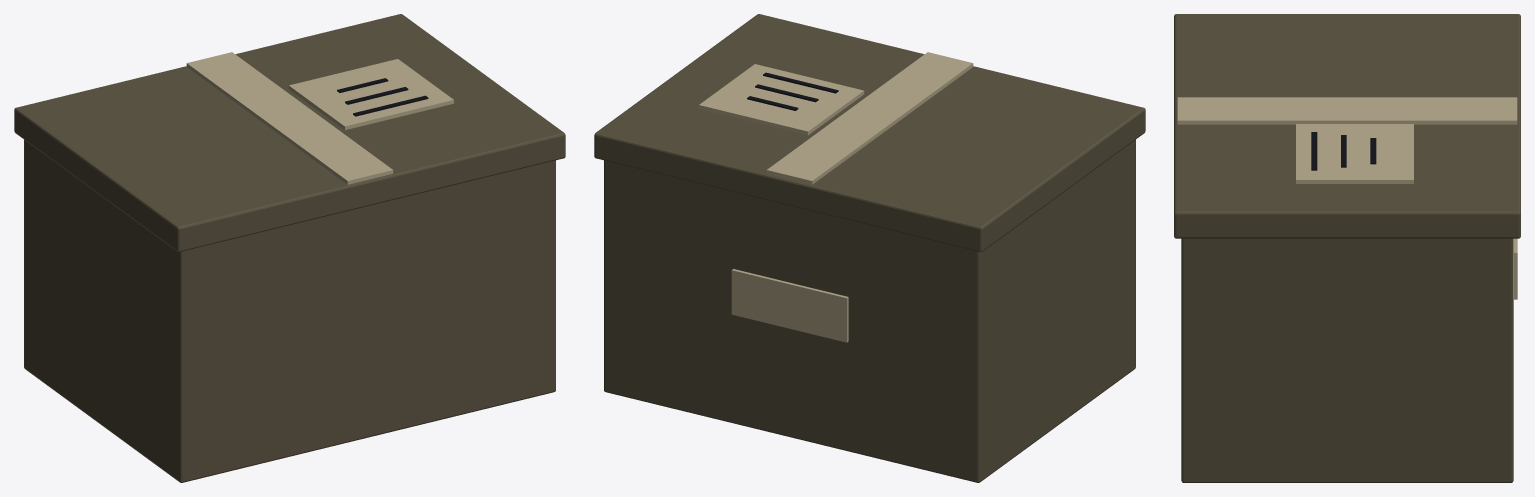
Rendered from archive_box_sealed.glb.
3 views of the same model, side by side, from view 1: azimuth 30°, elevation 25°; view 2: azimuth 150°, elevation 25°; view 3: azimuth 270°, elevation 25° (orthographic). The views are drawn at different scales.
Visible parts, largest first — view 1: archive_box_sealed; view 2: archive_box_sealed; view 3: archive_box_sealed.
Boxes of the visible parts, x1,y1,x2,y2 form: archive_box_sealed: (14,14,565,482); archive_box_sealed: (594,14,1145,482); archive_box_sealed: (1174,14,1520,482).
Bounding box in the file's own units: 0.64 × 0.419 × 0.47.
